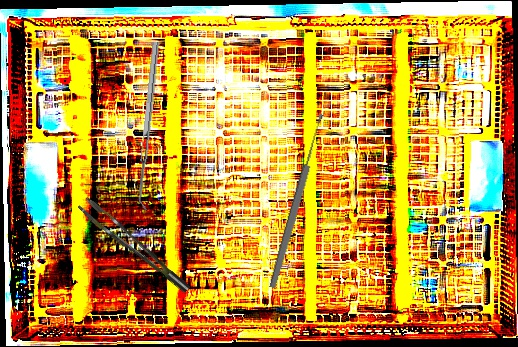Spatula Surgical: (135, 41, 166, 211)
Surgical Spoon: (267, 113, 327, 289)
Tissue Forceps: (77, 187, 191, 307)
